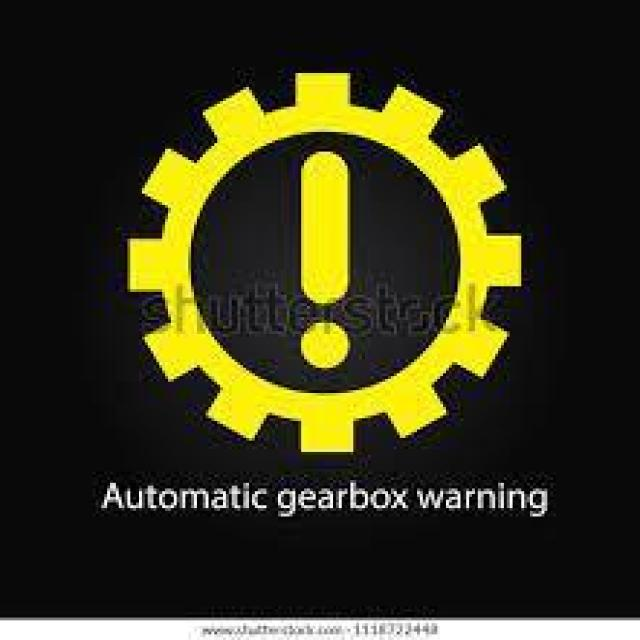kontrolka: (111, 56, 545, 452)
